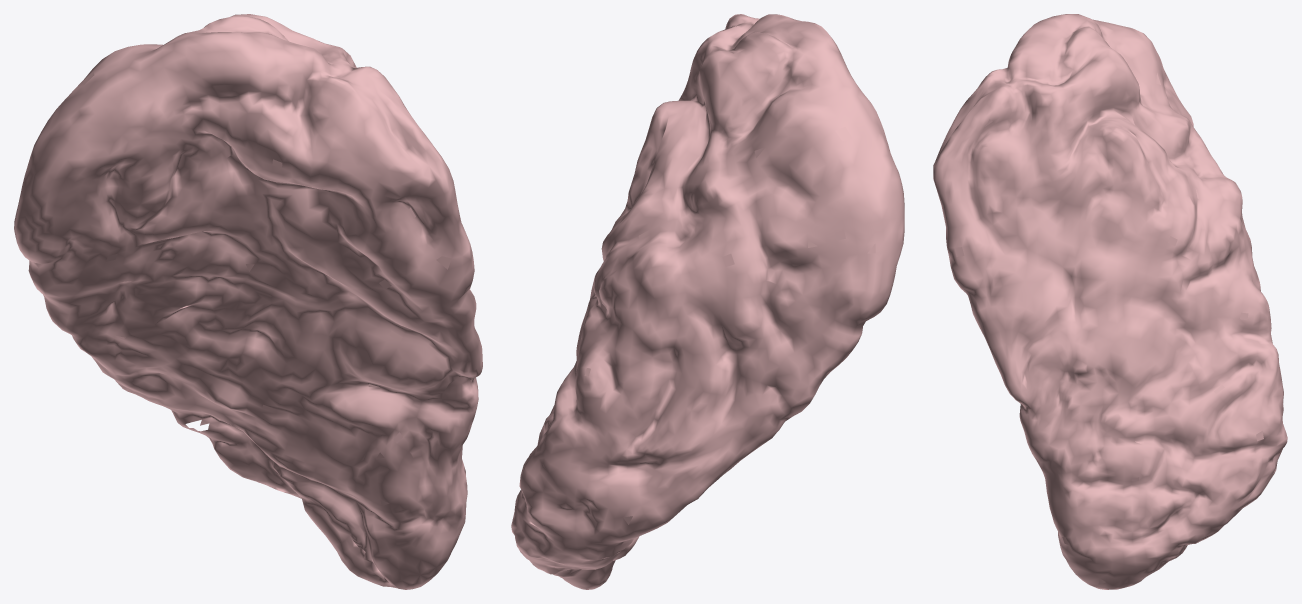
The picture shows the model from 3 angles, left to right: view 1: azimuth 30°, elevation 25°; view 2: azimuth 150°, elevation 25°; view 3: azimuth 270°, elevation 25°; orthographic projection. The views are drawn at different scales.
Visible parts, largest first — view 1: VH_M_palatine_tonsil_L; view 2: VH_M_palatine_tonsil_L; view 3: VH_M_palatine_tonsil_L.
Boxes of the visible parts, <box> form: VH_M_palatine_tonsil_L: <box>14,14,482,589</box>; VH_M_palatine_tonsil_L: <box>511,14,904,589</box>; VH_M_palatine_tonsil_L: <box>933,14,1287,589</box>.
Bounding box in the file's own units: 0.0163 × 0.0243 × 0.0159.
